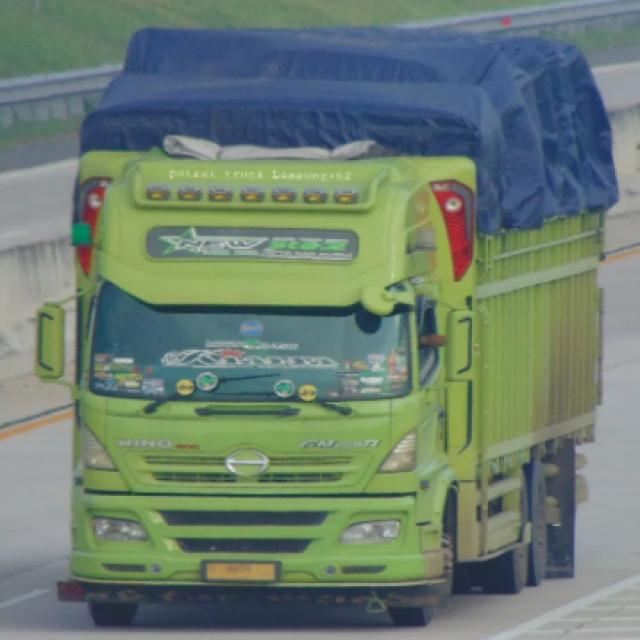Truck: (48, 0, 601, 620)
